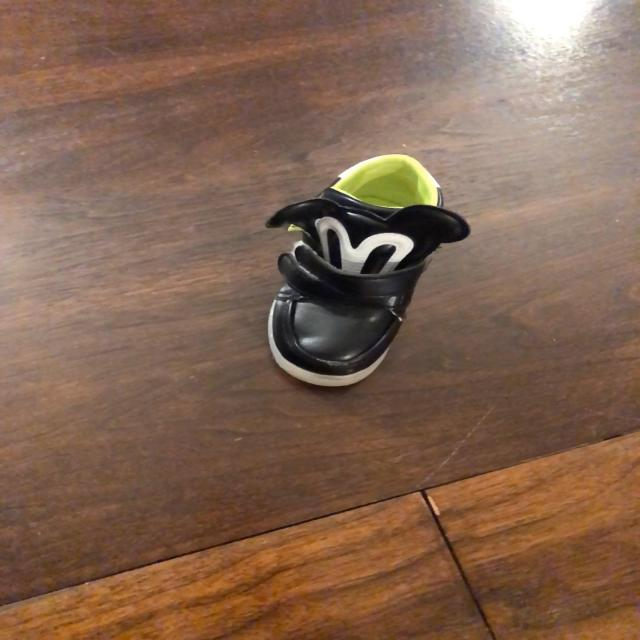shoe: (265, 156, 471, 391)
